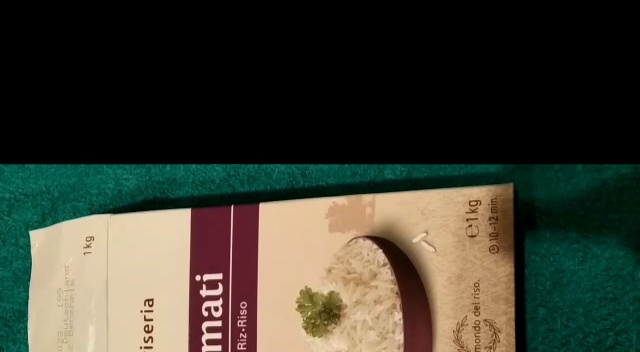basmati_rice: (20, 180, 525, 352)
